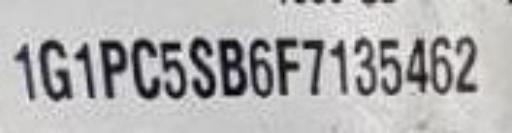letter: (35, 38, 75, 103), (96, 34, 130, 103), (215, 34, 249, 103), (128, 35, 162, 100), (157, 34, 189, 103), (186, 34, 218, 103), (273, 35, 305, 100), (401, 34, 433, 97), (348, 35, 378, 100), (246, 35, 276, 100), (424, 32, 454, 95), (374, 34, 404, 97), (300, 35, 328, 100), (70, 38, 98, 103), (454, 34, 482, 95), (325, 35, 351, 100), (11, 40, 37, 101)
